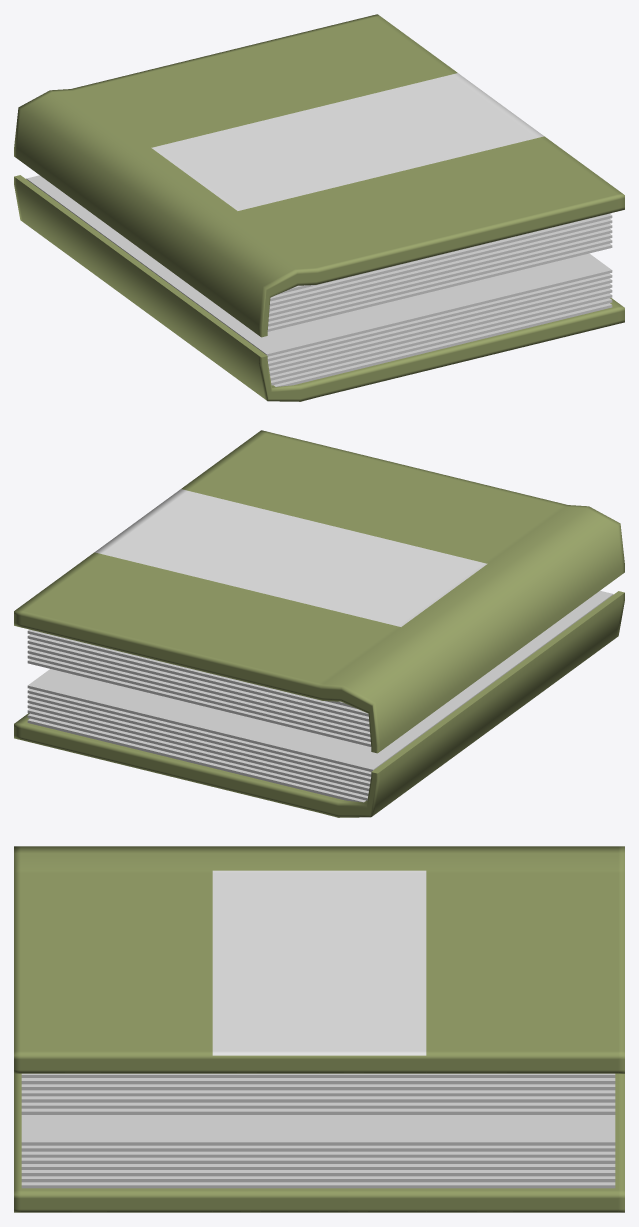
File: bookv2.fbx
The picture shows the model from 3 angles, top to bottom: view 1: azimuth 30°, elevation 25°; view 2: azimuth 150°, elevation 25°; view 3: azimuth 270°, elevation 25°; orthographic projection. The views are drawn at different scales.
Parts seen in each view (by area): view 1: book close_paper.002, book close_paper.016; view 2: book close_paper.002, book close_paper.016; view 3: book close_paper.002, book close_paper.016.
Boxes of the visible parts, left/top/right/bottom form: book close_paper.002: left=14, top=14, right=624, bottom=337; book close_paper.016: left=14, top=175, right=624, bottom=401; book close_paper.002: left=14, top=430, right=624, bottom=753; book close_paper.016: left=14, top=590, right=624, bottom=817; book close_paper.002: left=14, top=846, right=624, bottom=1114; book close_paper.016: left=14, top=1073, right=624, bottom=1212.
Size of the model in its own units: 12.63 by 4.36 by 14.88.
